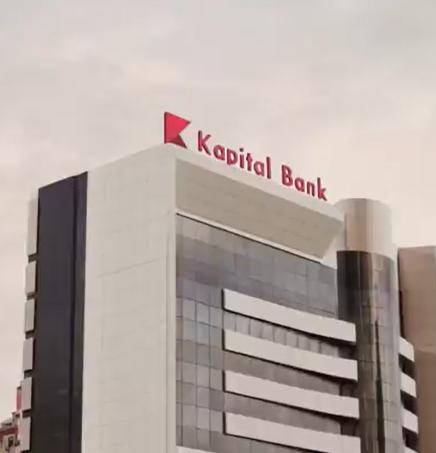Kapital Bank: (161, 110, 191, 150)
